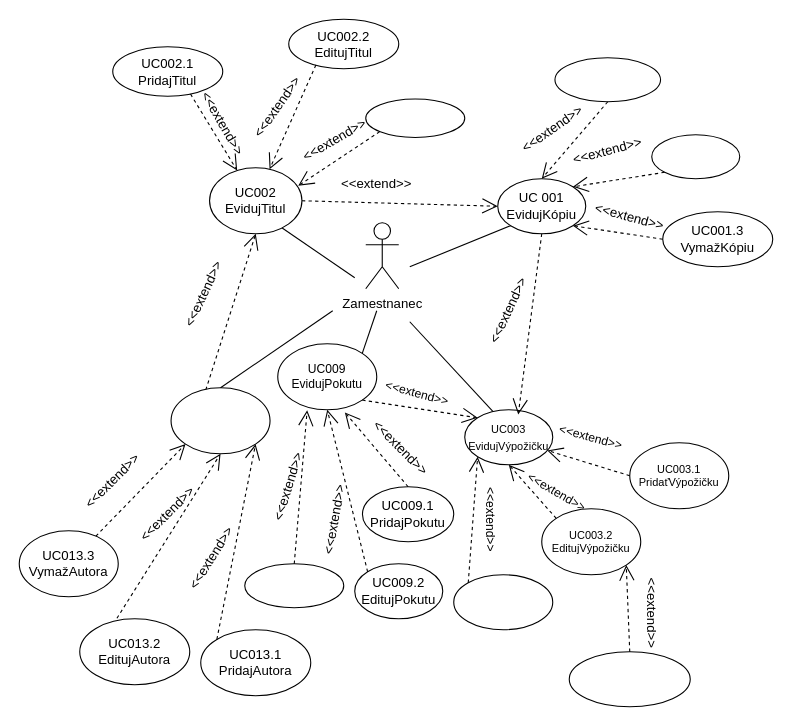
This 792x726 diagram has some shape labels left out. The centre of each missing label's shape, as x and y in pixels:
"UC001.1 PridajKópiu" goes at [607,79].
"UC001.2 EditujKópiu" goes at [695,156].
"UC002.3 VymažTitul" goes at [415,118].
"UC003.3 VymažVýpožičku" goes at [503,602].
"UC003.4 PredĺžiťVýpožičnú Lehotu" goes at [629,679].
"UC009.3 VymažPokutu" goes at [294,585].
"UC013 EvidujAutora" goes at [220,420].
